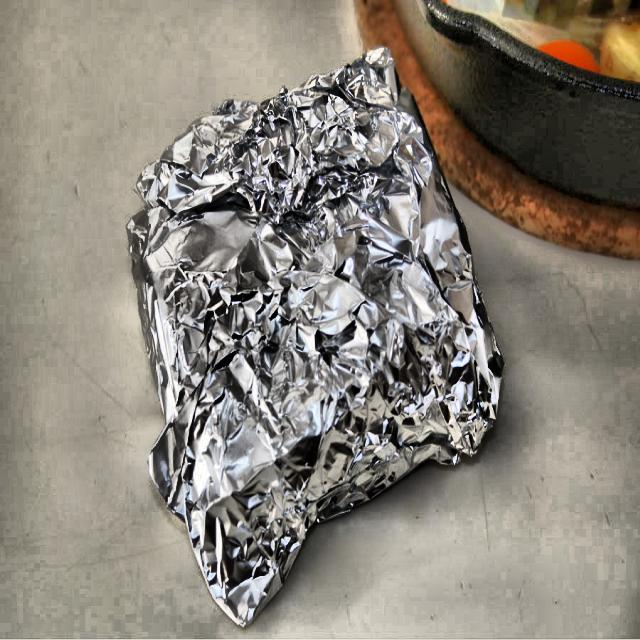Foil: (110, 42, 508, 631)
